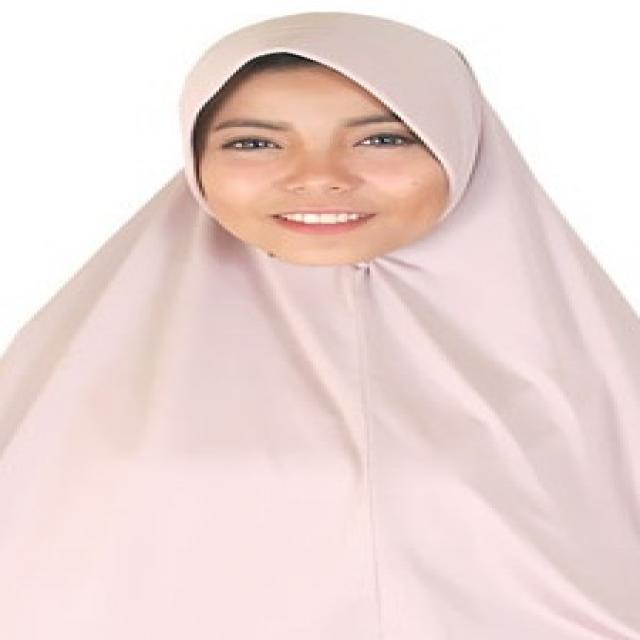head: (158, 14, 517, 270)
